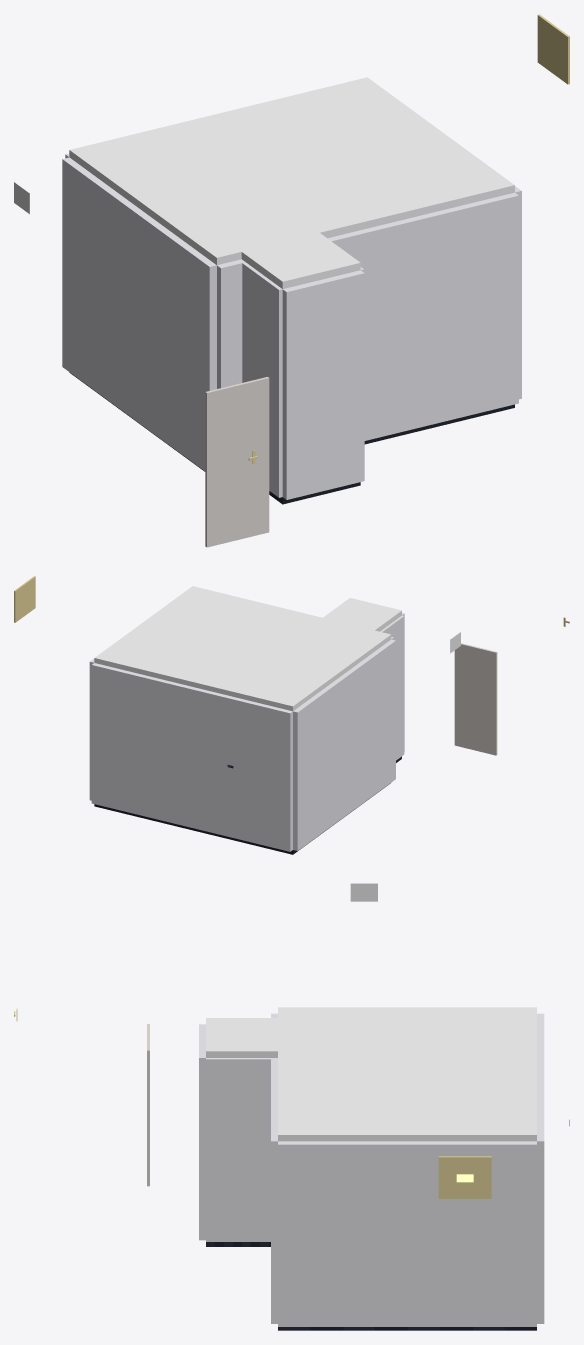
Rendered from mobile-room-lod.glb.
The picture shows the model from 3 angles, top to bottom: view 1: azimuth 30°, elevation 25°; view 2: azimuth 150°, elevation 25°; view 3: azimuth 270°, elevation 25°; orthographic projection. The views are drawn at different scales.
Visible parts, largest first — view 1: ceiling_main, wall_front_right, wall_left, wall_hallway_b, door_leaf, wall_hallway_l, ceiling_hallway, wall_front_left, painting_frame, floor_main, wall_right; view 2: wall_rear, ceiling_main, wall_left, door_leaf, ceiling_hallway, wall_hallway_l, painting_frame, floor_main, wall_right; view 3: wall_right, ceiling_main, wall_hallway_r, ceiling_hallway, wall_rear, painting_frame, wall_front_right, wall_hallway_b, floor_main.
Part boxes in pixels (left/top/right/bottom): ceiling_main: left=69, top=77, right=514, bottom=265; wall_front_right: left=328, top=192, right=518, bottom=440; wall_left: left=62, top=157, right=216, bottom=471; wall_hallway_b: left=282, top=270, right=364, bottom=499; door_leaf: left=205, top=377, right=269, bottom=547; wall_hallway_l: left=238, top=259, right=282, bottom=497; ceiling_hallway: left=241, top=233, right=360, bottom=288; wall_front_left: left=217, top=259, right=245, bottom=388; painting_frame: left=537, top=14, right=569, bottom=84; floor_main: left=69, top=372, right=514, bottom=471; wall_right: left=515, top=186, right=521, bottom=399; wall_rear: left=91, top=663, right=292, bottom=851; ceiling_main: left=94, top=586, right=391, bottom=711; wall_left: left=293, top=639, right=395, bottom=850; door_leaf: left=454, top=643, right=497, bottom=755; ceiling_hallway: left=323, top=598, right=401, bottom=631; wall_hallway_l: left=380, top=615, right=404, bottom=760; painting_frame: left=14, top=576, right=35, bottom=622; floor_main: left=94, top=783, right=390, bottom=854; wall_right: left=89, top=659, right=94, bottom=800; wall_right: left=278, top=1141, right=536, bottom=1326; ceiling_main: left=278, top=1007, right=536, bottom=1141; wall_hallway_r: left=206, top=1058, right=277, bottom=1241; ceiling_hallway: left=206, top=1018, right=277, bottom=1057; wall_rear: left=537, top=1013, right=544, bottom=1323; painting_frame: left=438, top=1156, right=491, bottom=1198; wall_front_right: left=271, top=1059, right=277, bottom=1323; wall_hallway_b: left=199, top=1024, right=205, bottom=1240; floor_main: left=278, top=1327, right=536, bottom=1330.
Size of the model in its own units: 8.32 by 3.94 by 7.73.
39 materials, 7 textured.
